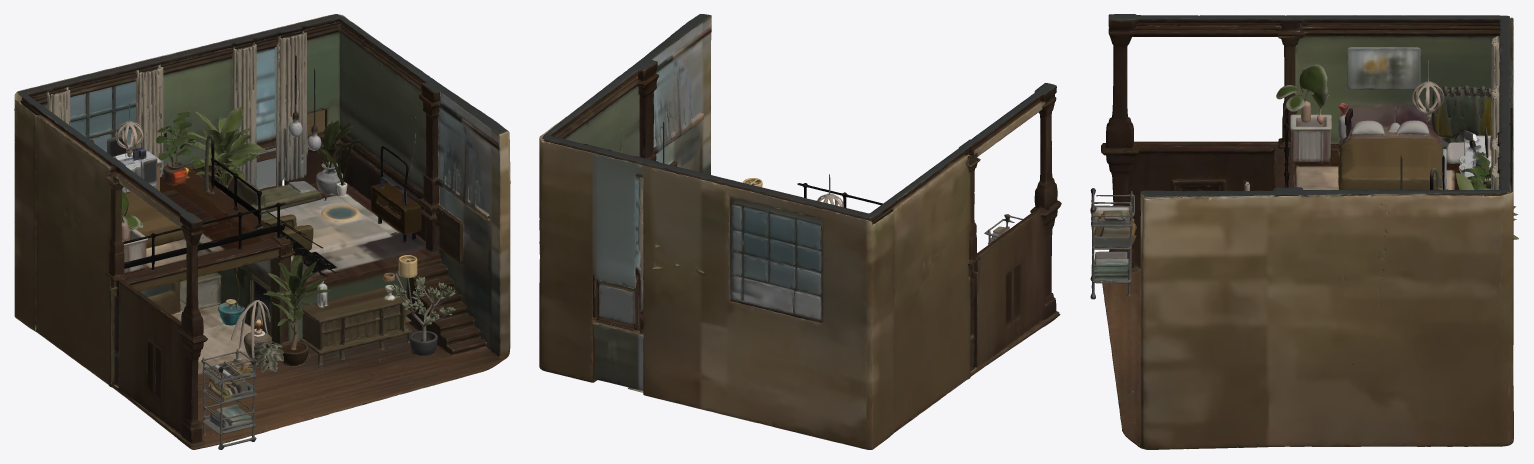
The model's file is interior.glb.
The picture shows the model from 3 angles, left to right: view 1: azimuth 30°, elevation 25°; view 2: azimuth 150°, elevation 25°; view 3: azimuth 270°, elevation 25°; orthographic projection. The views are drawn at different scales.
Visible parts, largest first — view 1: world; view 2: world; view 3: world.
Boxes of the visible parts, left/top/right/bottom form: world: left=14, top=14, right=510, bottom=449; world: left=539, top=14, right=1061, bottom=449; world: left=1090, top=14, right=1518, bottom=449.
Bounding box in the file's own units: 1 × 0.6562 × 0.9826.
Materials: 1 (1 with a texture image).
